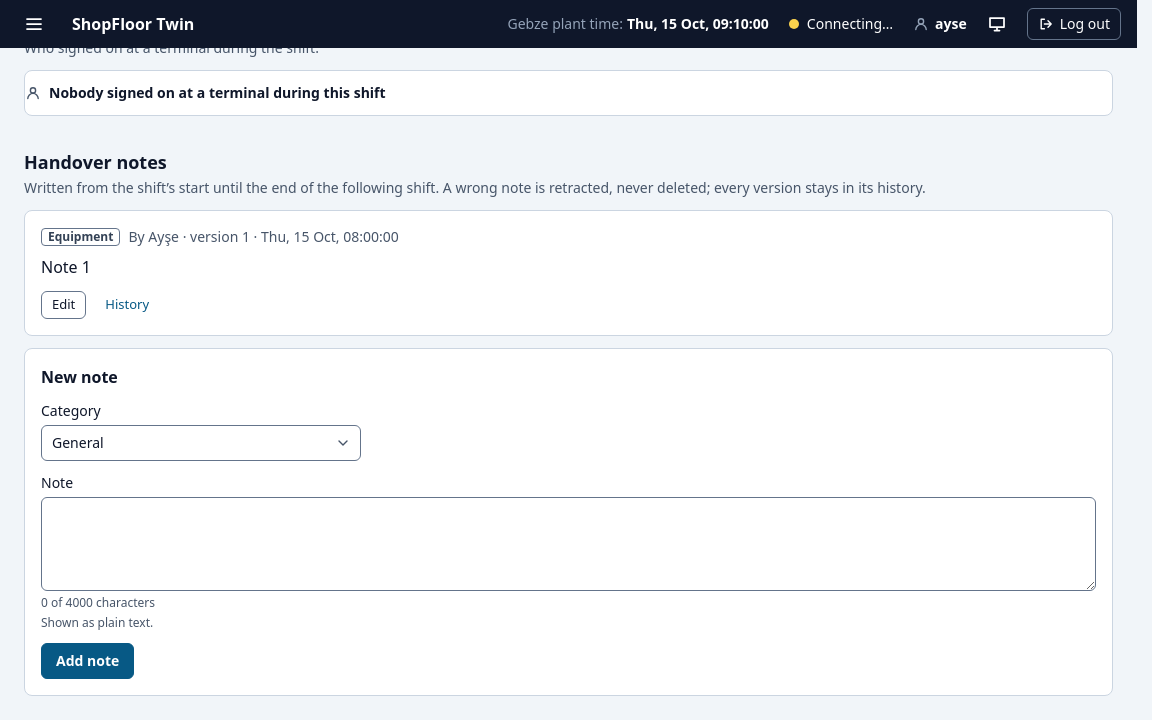
handover note editor › lays the forms out on Fields: labelled controls, the count and hint, the error at the field (UX-5b)
(page scrolled)
Click the button with test id "add-note" at [88, 661], box [41,643,134,679]
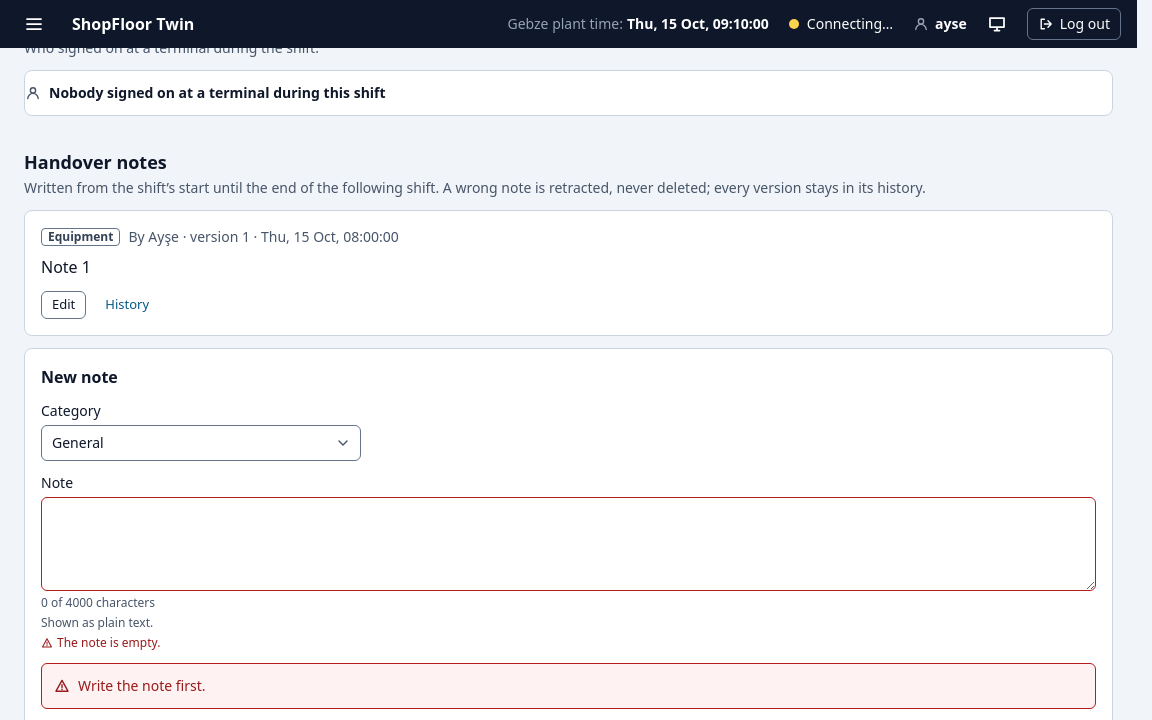
Check: the text "The note is empty." is shown, box [57,635,160,651]
# The editor: the same fields, the retraction a labelled checkbox with what it means.
Click the button with aria-label "Edit note 1" at [64, 305], box [41,291,86,319]
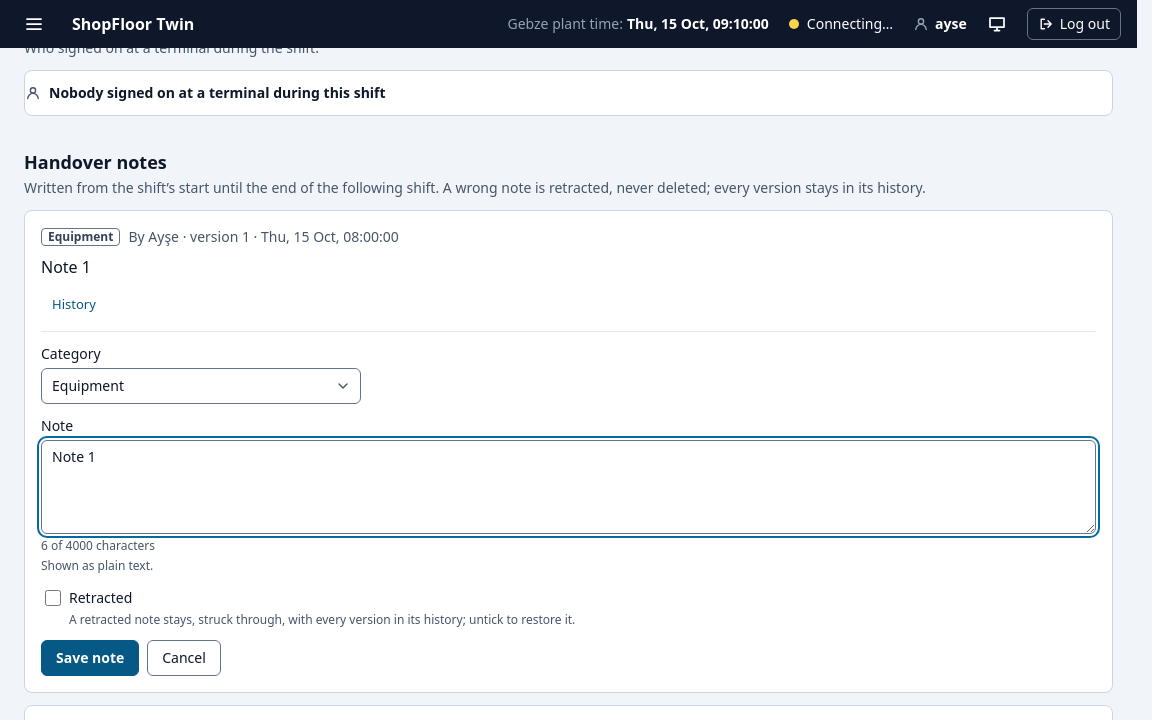
Click the button with aria-label "History of note 1" at [74, 305], box [41,291,107,319]
(page scrolled)
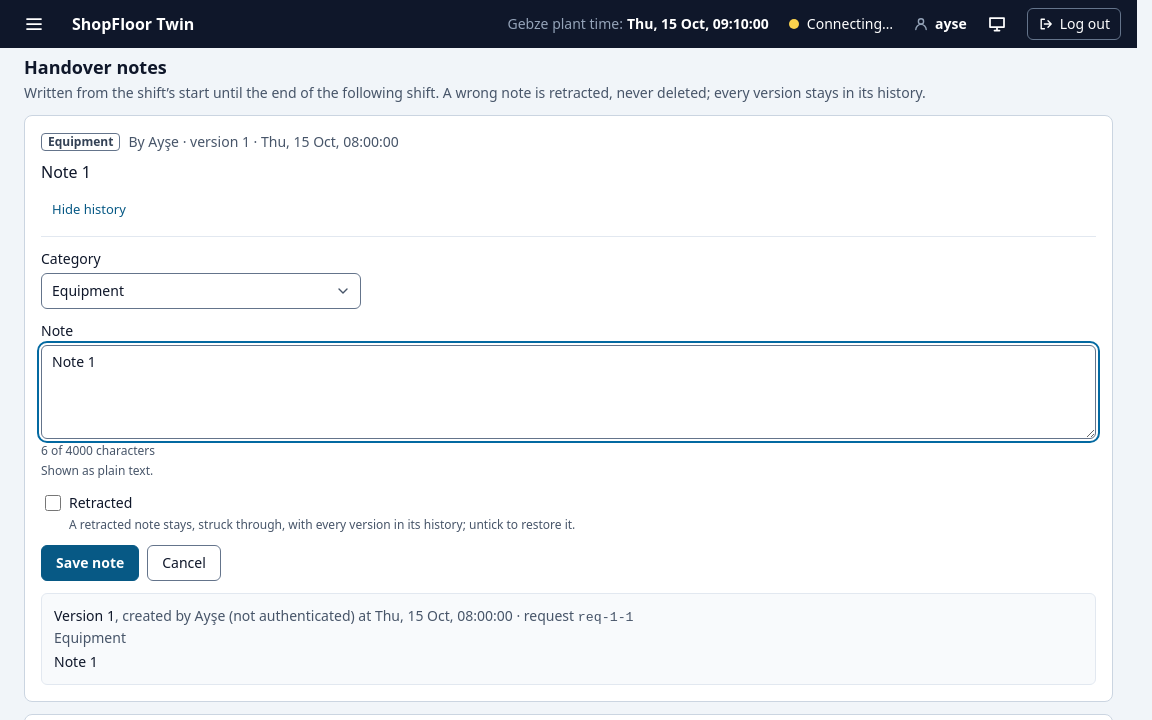
Check: the element with test id "note-1" does not show "plant time"
Check: the button with aria-label "Hide history of note 1" is expanded, box [41,196,137,224]
